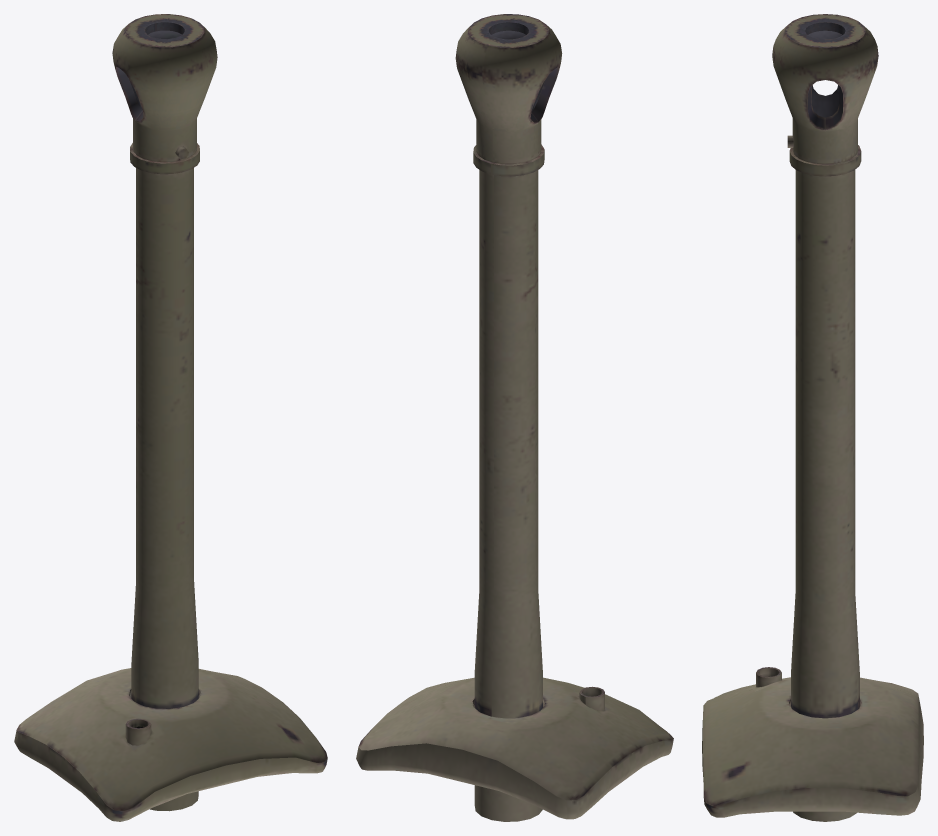
The model's file is Gun_06.glb.
3 views of the same model, side by side, from view 1: azimuth 30°, elevation 25°; view 2: azimuth 150°, elevation 25°; view 3: azimuth 270°, elevation 25° (orthographic).
Parts seen in each view (by area): view 1: set_0_group_0; view 2: set_0_group_0; view 3: set_0_group_0.
Part boxes in pixels (<box>): set_0_group_0: <box>14,14,327,821</box>; set_0_group_0: <box>356,14,673,821</box>; set_0_group_0: <box>702,14,923,821</box>.
Size of the model in its own units: 0.5293 by 1.72 by 0.4459.
Materials: 1 (1 with a texture image).
